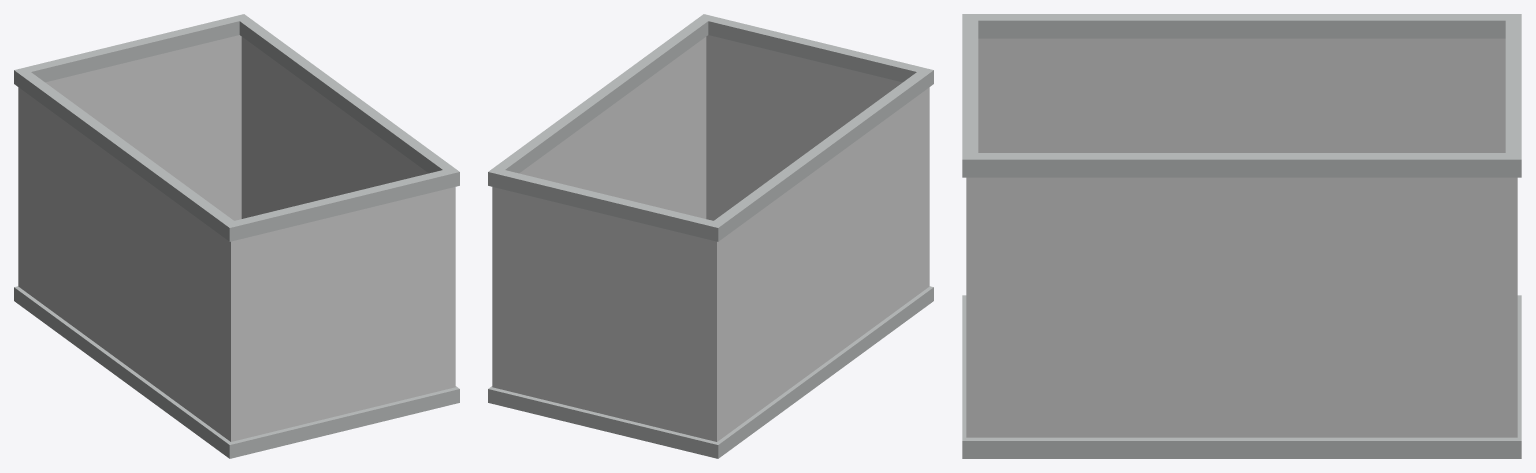
File: Aquarium_Glass.fbx
3 views of the same model, side by side, from view 1: azimuth 30°, elevation 25°; view 2: azimuth 150°, elevation 25°; view 3: azimuth 270°, elevation 25° (orthographic). The views are drawn at different scales.
Parts seen in each view (by area): view 1: Aquarium_Glass; view 2: Aquarium_Glass; view 3: Aquarium_Glass.
Part boxes in pixels (left/top/right/bottom): Aquarium_Glass: left=14, top=14, right=459, bottom=458; Aquarium_Glass: left=488, top=14, right=933, bottom=458; Aquarium_Glass: left=962, top=14, right=1521, bottom=458.
Bounding box in the file's own units: 0.3025 × 0.29 × 0.4911.
